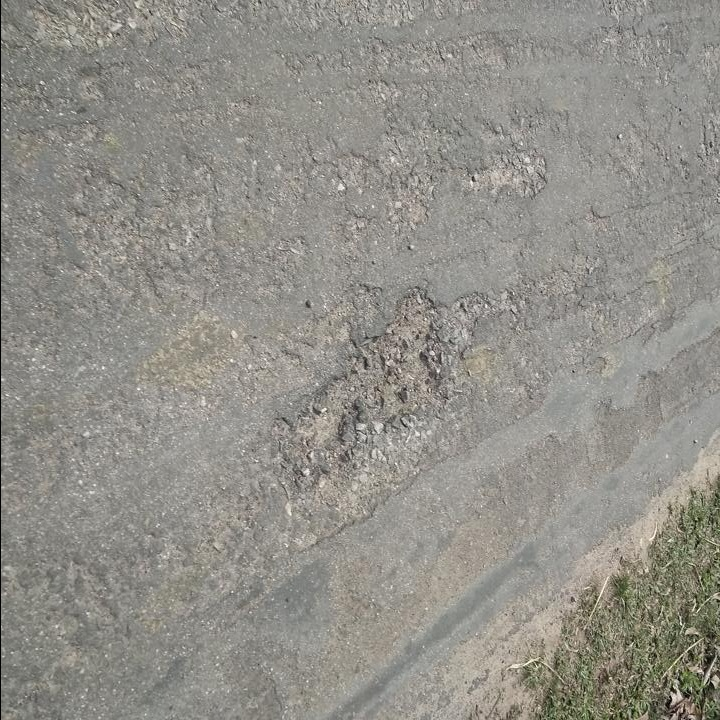pothole: (278, 283, 450, 485), (469, 144, 550, 201)
